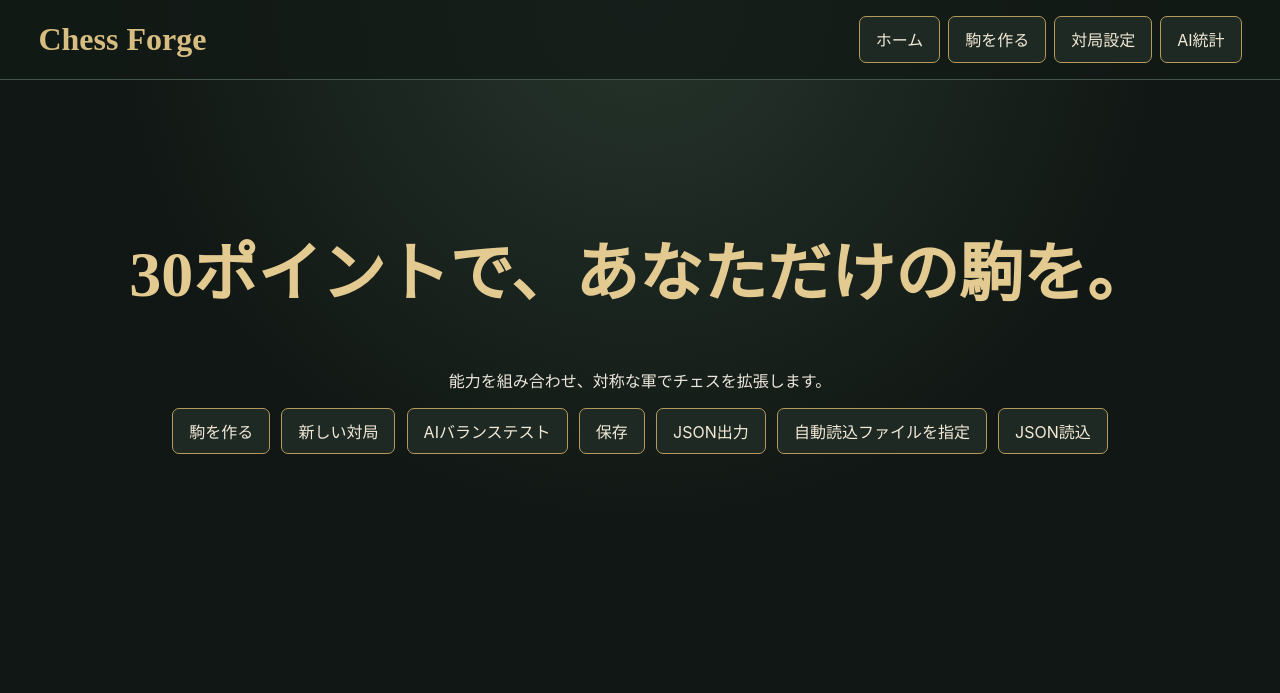
it: App › moves from home to the piece editor
Click the button "駒を作る" in the row of "Chess Forge".
click(997, 39)  # box top-left (948, 16), bottom-right (1046, 63)
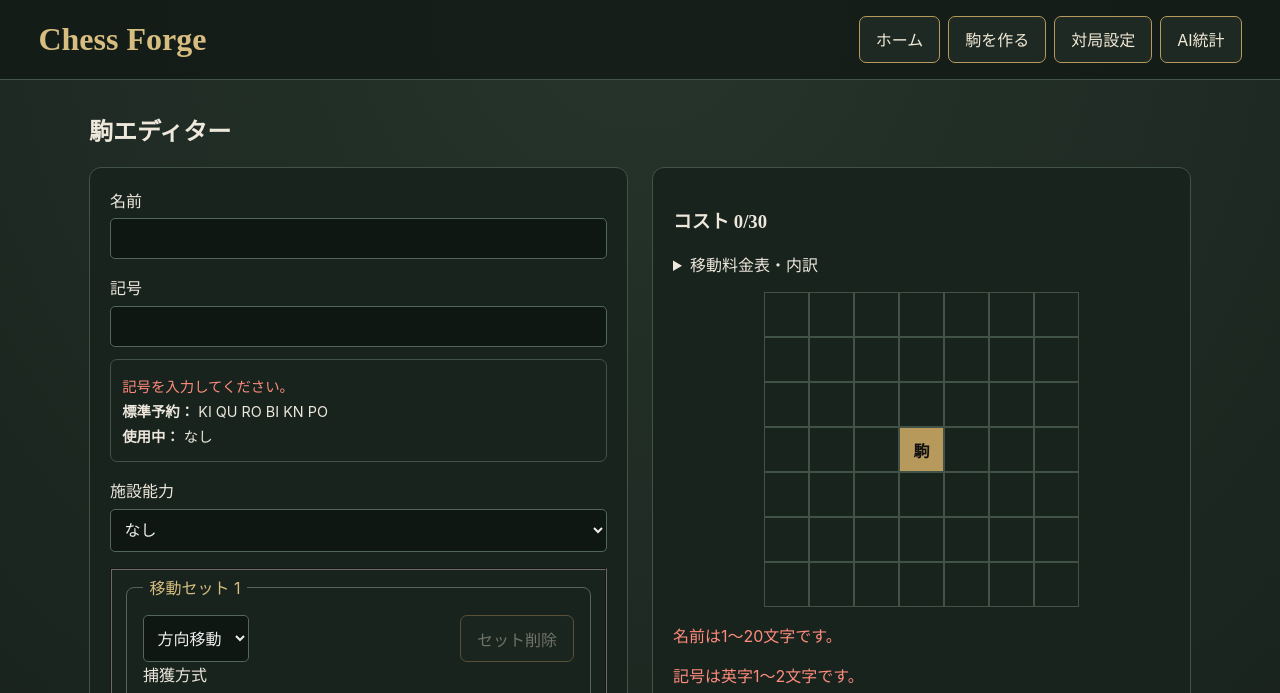
expect the heading "駒エディター" is shown: met, box top-left (89, 119), bottom-right (231, 145)
expect the heading "コスト 0/30" is shown: met, box top-left (673, 211), bottom-right (767, 232)
